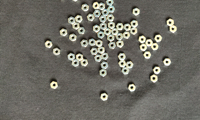nut: (167, 19, 175, 27), (146, 39, 154, 47), (139, 36, 147, 44), (133, 8, 141, 16), (131, 20, 139, 28), (116, 33, 124, 41), (111, 28, 119, 36), (101, 62, 109, 70), (81, 59, 89, 67), (76, 54, 84, 62), (72, 59, 80, 67), (68, 53, 76, 61), (50, 82, 58, 90), (60, 29, 68, 37), (53, 48, 61, 56), (170, 25, 177, 33), (164, 59, 172, 66), (155, 35, 163, 42), (151, 75, 158, 83), (151, 44, 159, 51), (144, 52, 152, 59), (140, 44, 148, 51), (126, 62, 134, 69), (122, 68, 130, 75), (119, 61, 127, 68), (119, 53, 126, 61), (124, 24, 132, 31), (123, 32, 131, 39), (117, 23, 124, 31), (108, 6, 116, 13), (107, 15, 115, 22), (100, 15, 107, 23), (102, 9, 110, 16), (99, 3, 106, 11), (93, 2, 100, 10), (94, 10, 101, 18), (100, 69, 107, 77), (101, 53, 109, 60), (91, 48, 98, 56), (98, 31, 105, 39), (87, 14, 95, 21), (82, 4, 89, 12), (81, 40, 89, 47), (78, 27, 86, 34), (76, 15, 83, 23), (73, 22, 80, 30), (69, 17, 76, 25), (70, 34, 77, 42), (45, 41, 53, 48), (154, 67, 161, 74), (129, 85, 136, 92), (131, 28, 138, 35), (117, 41, 124, 48), (109, 22, 116, 29), (108, 35, 115, 42), (109, 42, 116, 49), (100, 23, 107, 30), (101, 94, 108, 101), (98, 47, 105, 54), (95, 55, 102, 62), (96, 40, 103, 47), (89, 39, 96, 46), (105, 28, 111, 36), (94, 25, 100, 33), (107, 0, 114, 6), (72, 0, 79, 2)
